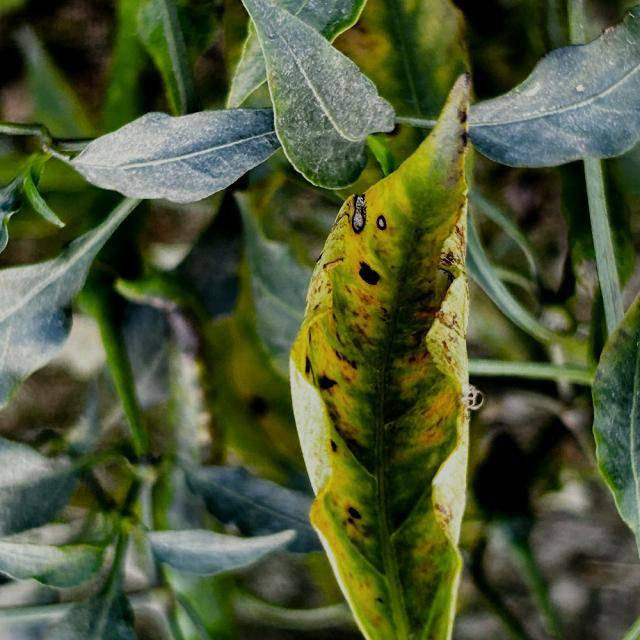Bercak Daun Serkospora: (288, 73, 477, 640)
